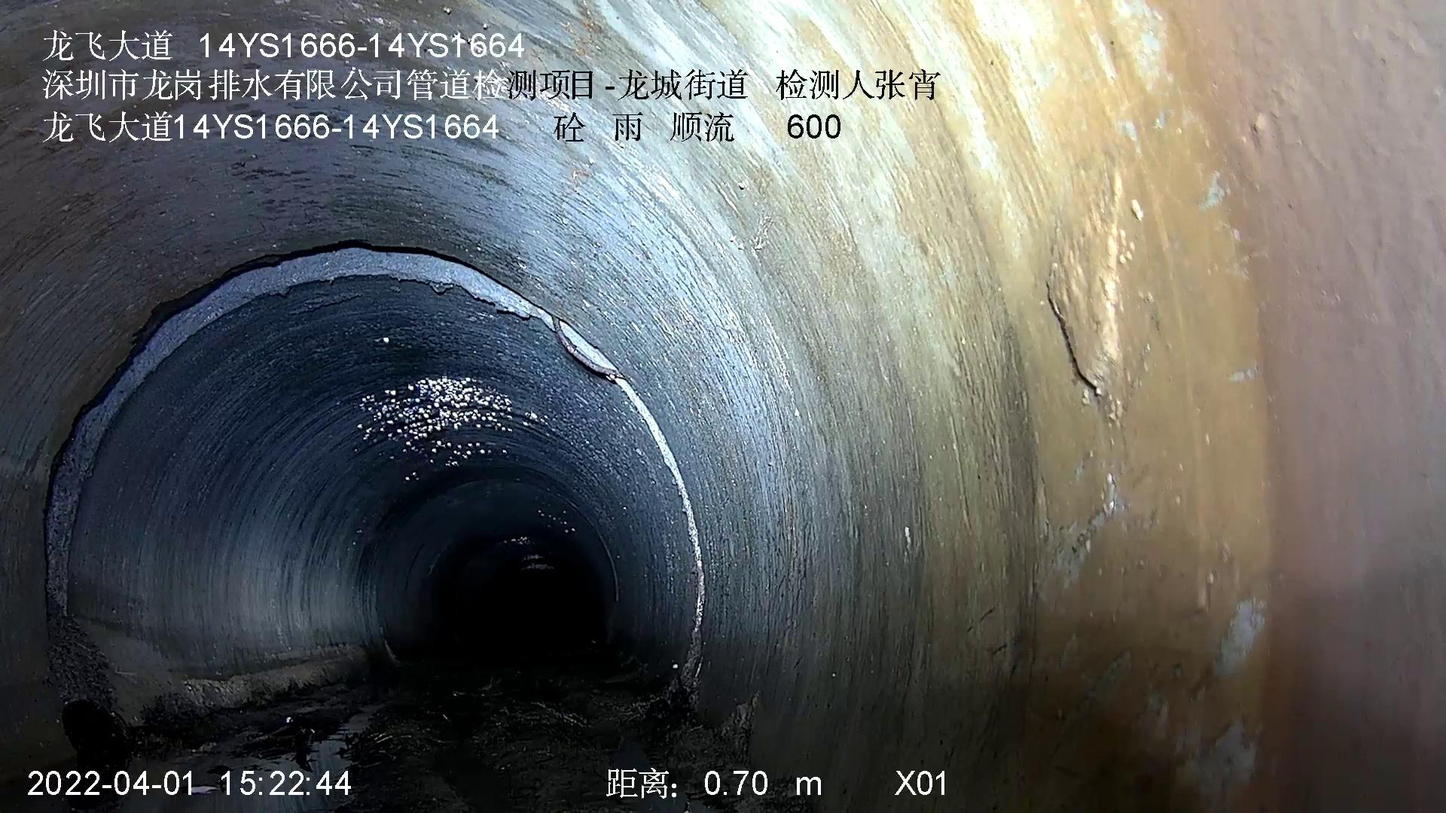CJ: (29, 644, 822, 812)
CKTJ: (46, 247, 701, 606)
